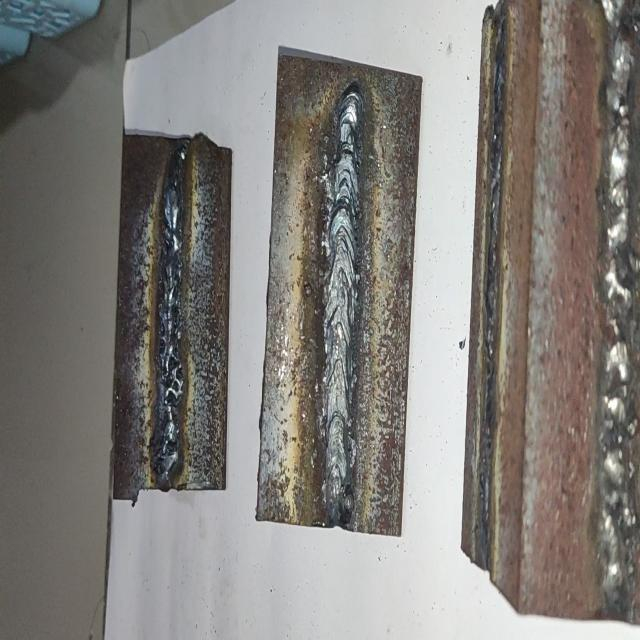Bad Weld: (602, 0, 640, 601), (158, 147, 185, 476)
Defect: (606, 0, 640, 590), (158, 162, 182, 475)
Good Weld: (321, 80, 363, 516)
